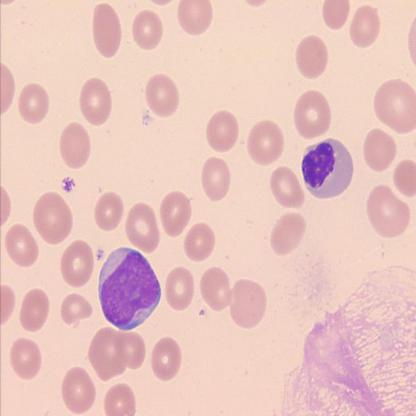NRC: (96, 244, 163, 332), (300, 133, 358, 203)
